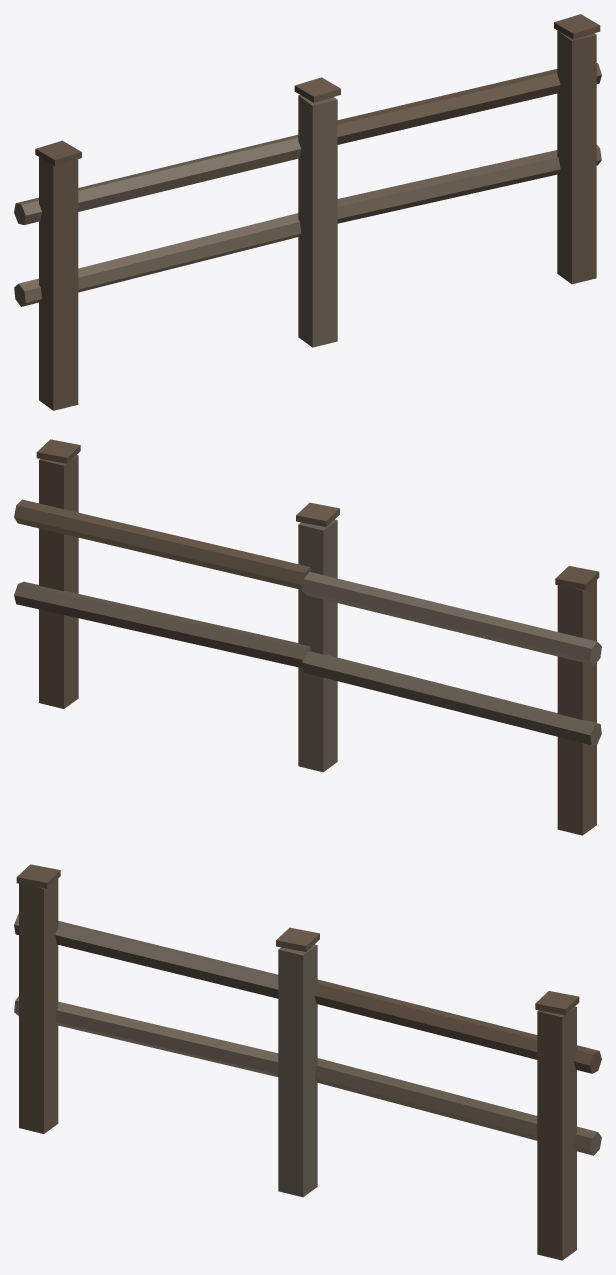
The model's file is fence.glb.
3 views of the same model, one above another, from view 1: azimuth 30°, elevation 25°; view 2: azimuth 150°, elevation 25°; view 3: azimuth 330°, elevation 25° (orthographic).
Visible parts, largest first — view 1: fence; view 2: fence; view 3: fence.
Boxes of the visible parts, x1=… form: fence: x1=14, y1=14, x2=601, y2=410; fence: x1=14, y1=439, x2=601, y2=835; fence: x1=14, y1=864, x2=601, y2=1260.
Bounding box in the file's own units: 3 × 1.25 × 0.2267.
